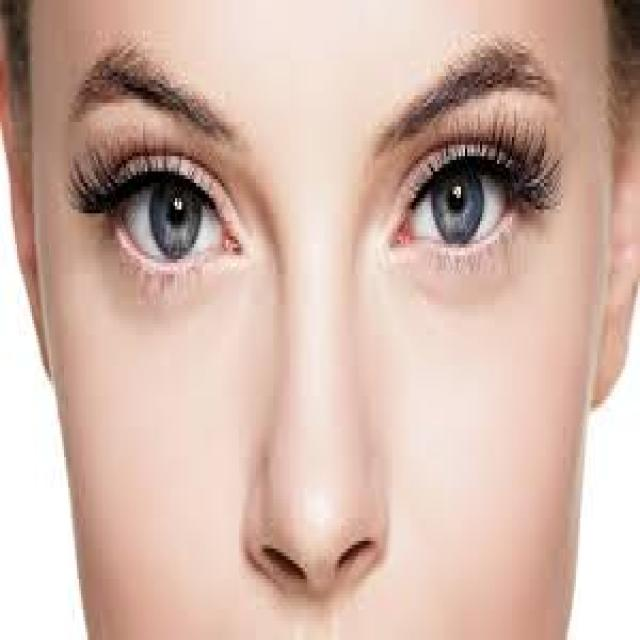Eyes-iris: (426, 158, 486, 252), (146, 173, 206, 258)
